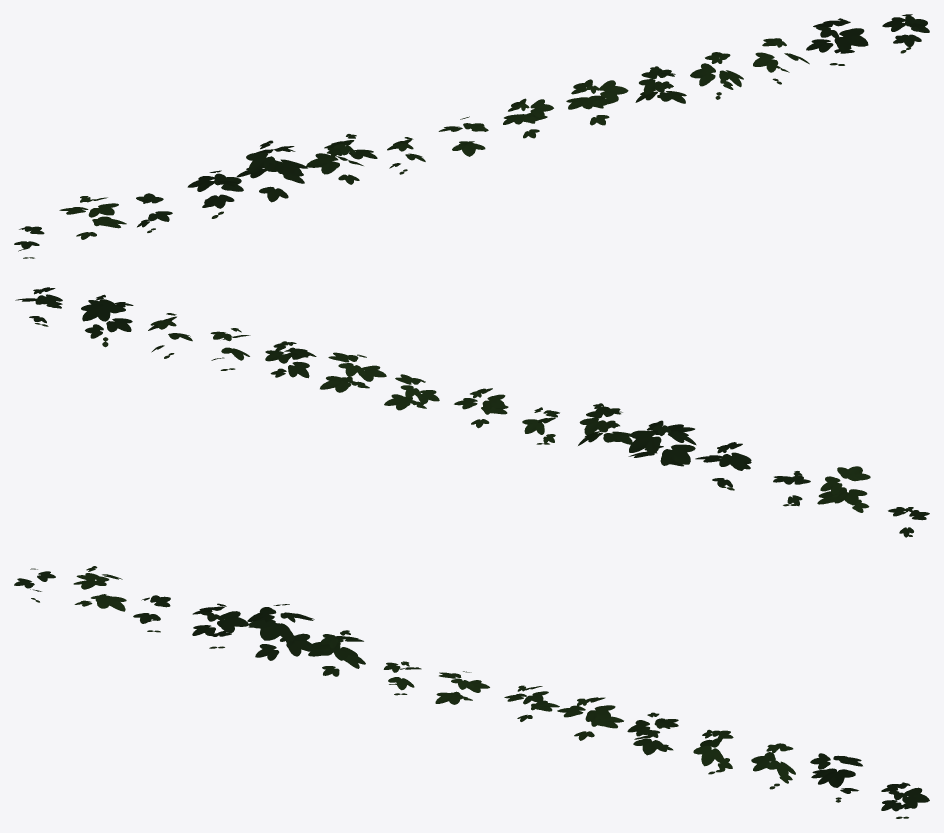
The model's file is ROW_20_SEG2_foliage.dae.
The picture shows the model from 3 angles, top to bottom: view 1: azimuth 30°, elevation 25°; view 2: azimuth 150°, elevation 25°; view 3: azimuth 330°, elevation 25°; orthographic projection.
Parts seen in each view (by area): view 1: ROW_20_SEG2_foliage; view 2: ROW_20_SEG2_foliage; view 3: ROW_20_SEG2_foliage.
Part boxes in pixels (bbox=[...]): ROW_20_SEG2_foliage: bbox=[14, 14, 929, 258]; ROW_20_SEG2_foliage: bbox=[15, 287, 929, 537]; ROW_20_SEG2_foliage: bbox=[14, 566, 929, 818].
Size of the model in its own units: 4.47 by 0.3263 by 0.2694.
